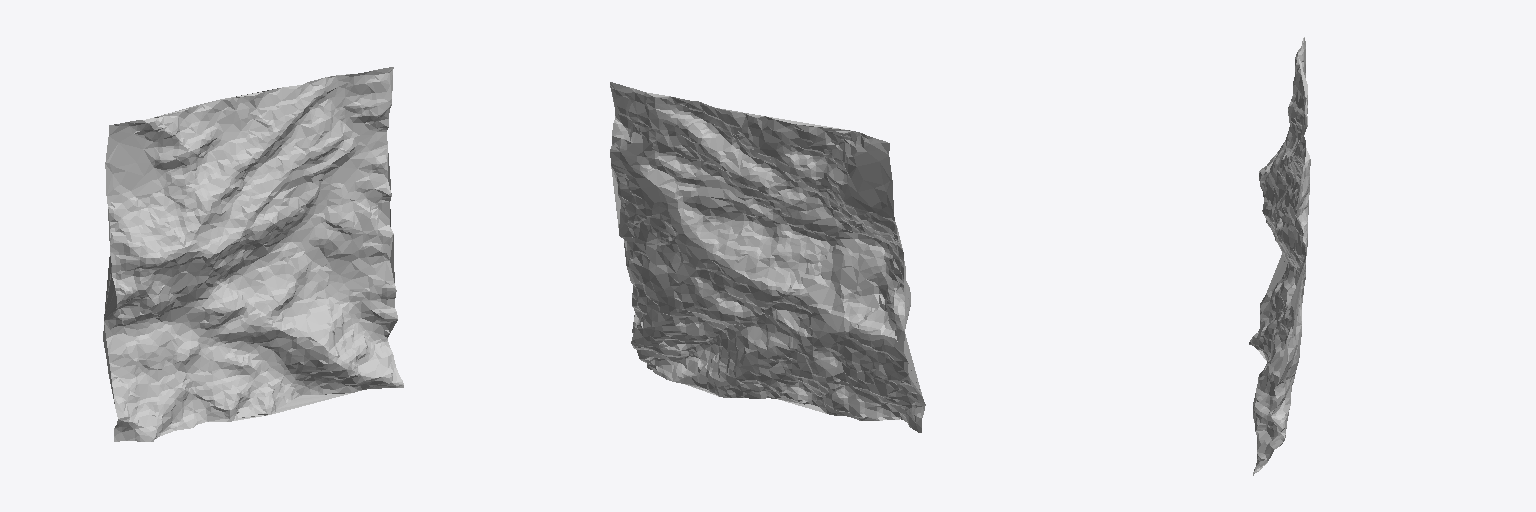
The model's file is gatlin3.obj.
3 renders of one model, left to right at view 1: azimuth 30°, elevation 25°; view 2: azimuth 150°, elevation 25°; view 3: azimuth 270°, elevation 25°, orthographic.
Size of the model in its own units: 142 by 142 by 25.52.